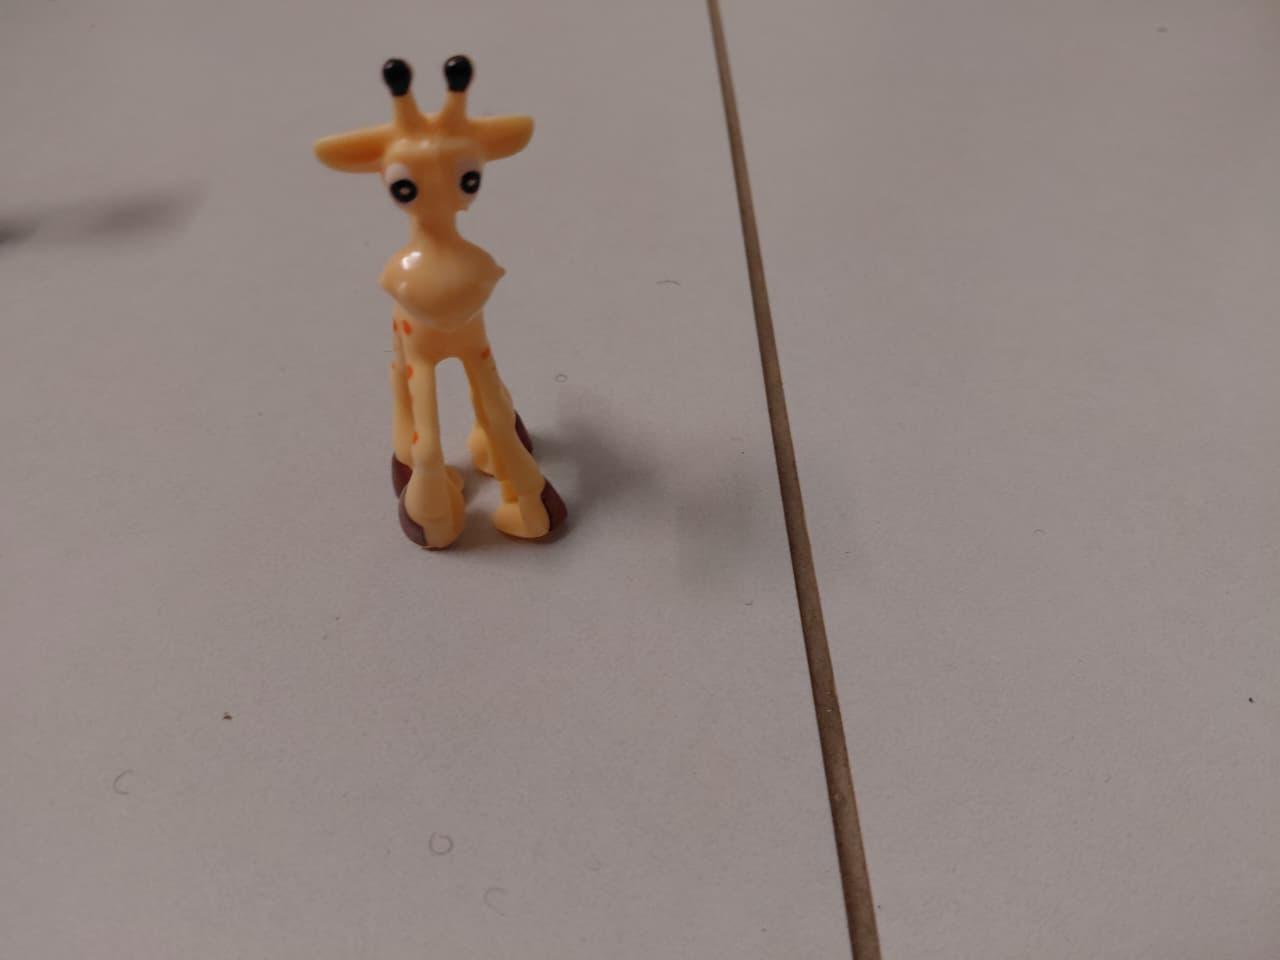giraffe: (296, 16, 621, 579)
